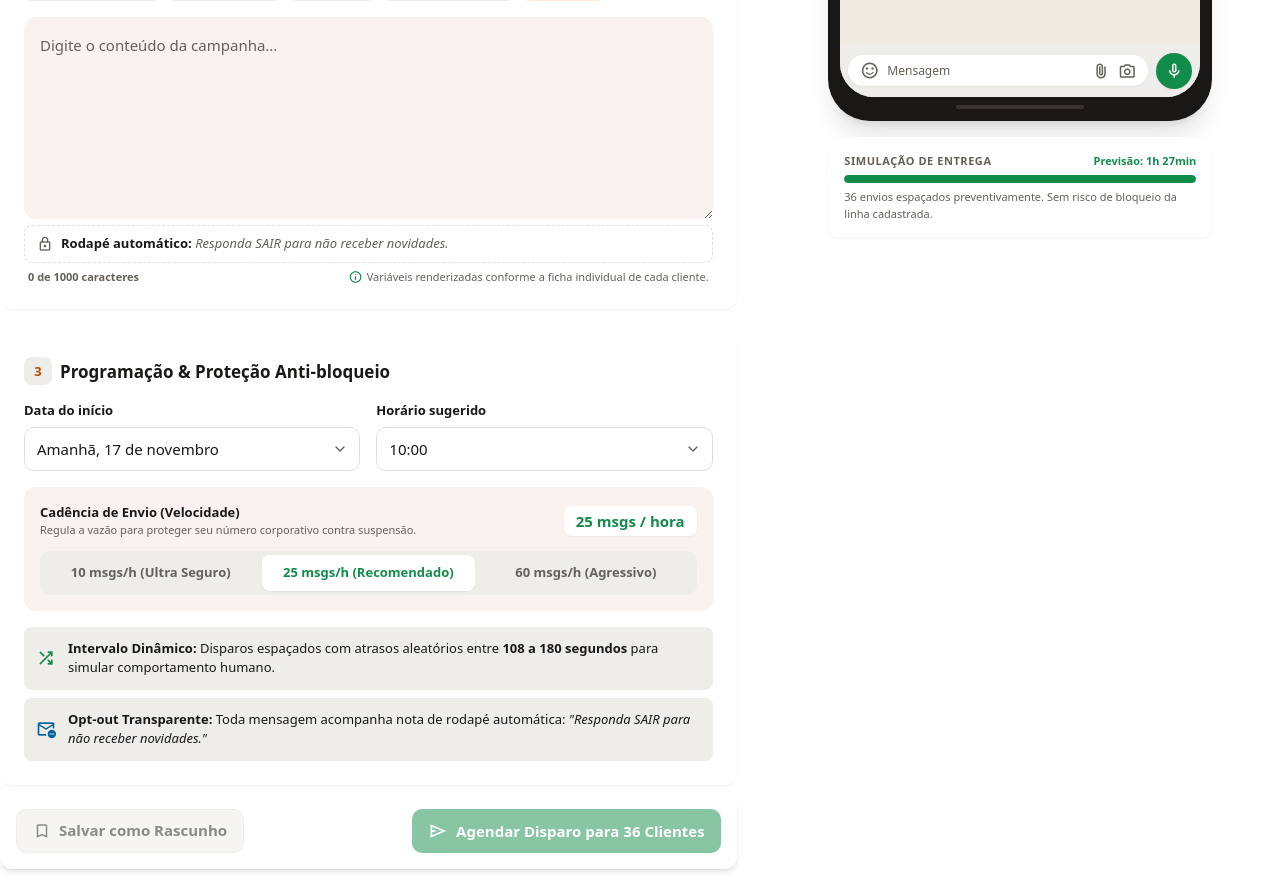
NovaCampanha › escolher 60/h mostra a faixa real do intervalo
This screenshot has width=1280, height=885.
(page scrolled)
Expected: the text "108 a 180 segundos" is shown, left=502, top=639, right=627, bottom=657
Click the radio button labelled "60 msgs/h (Agressivo)".
click(586, 573)  # box left=479, top=555, right=693, bottom=591
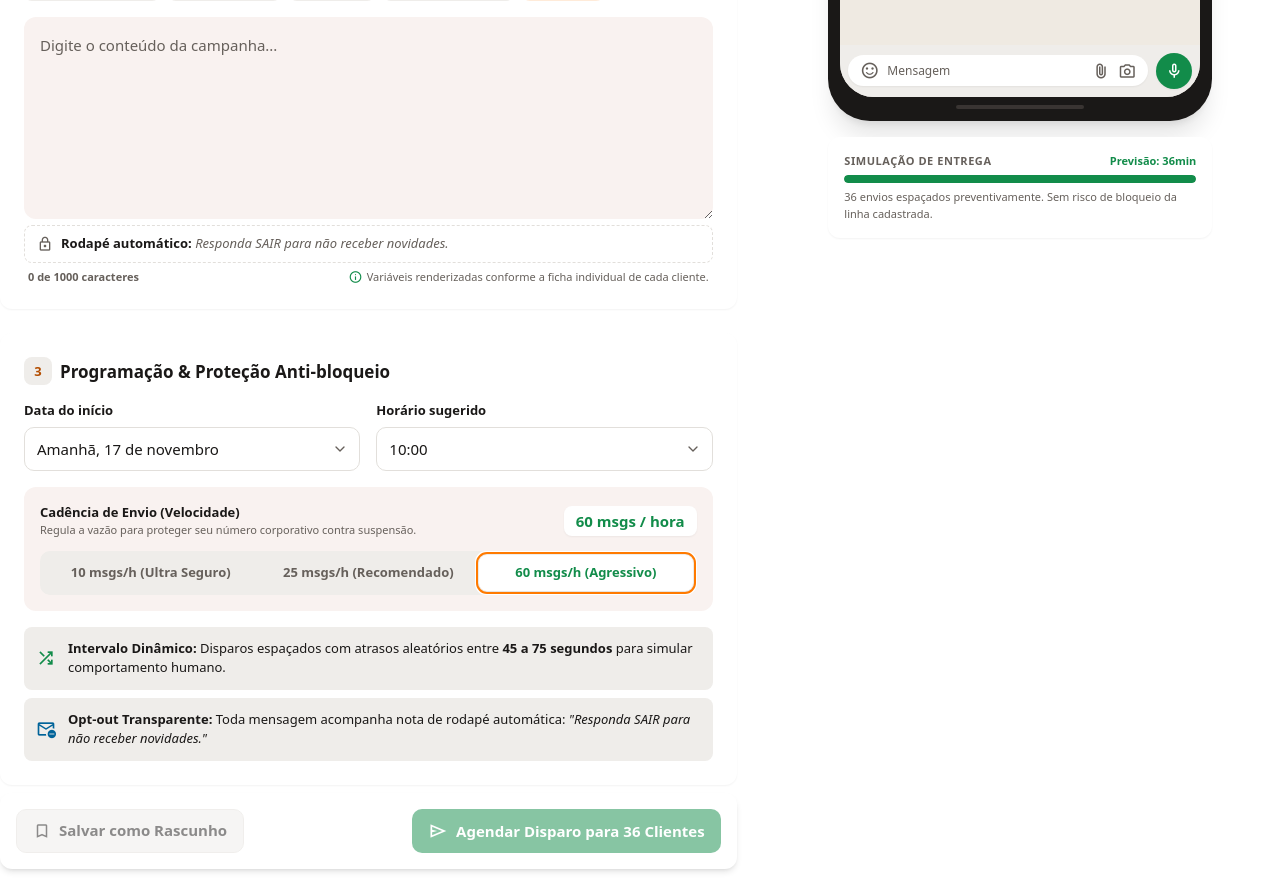
Result: the text "45 a 75 segundos" is shown at left=502, top=639, right=612, bottom=657
